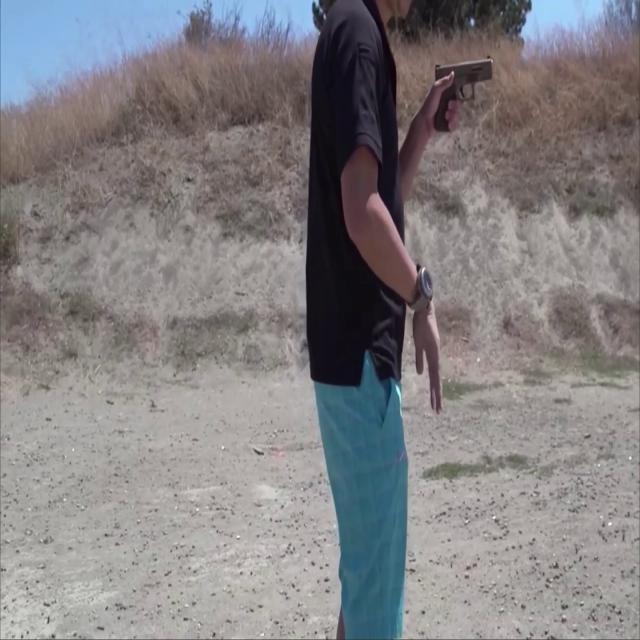Gun: (432, 54, 494, 132)
